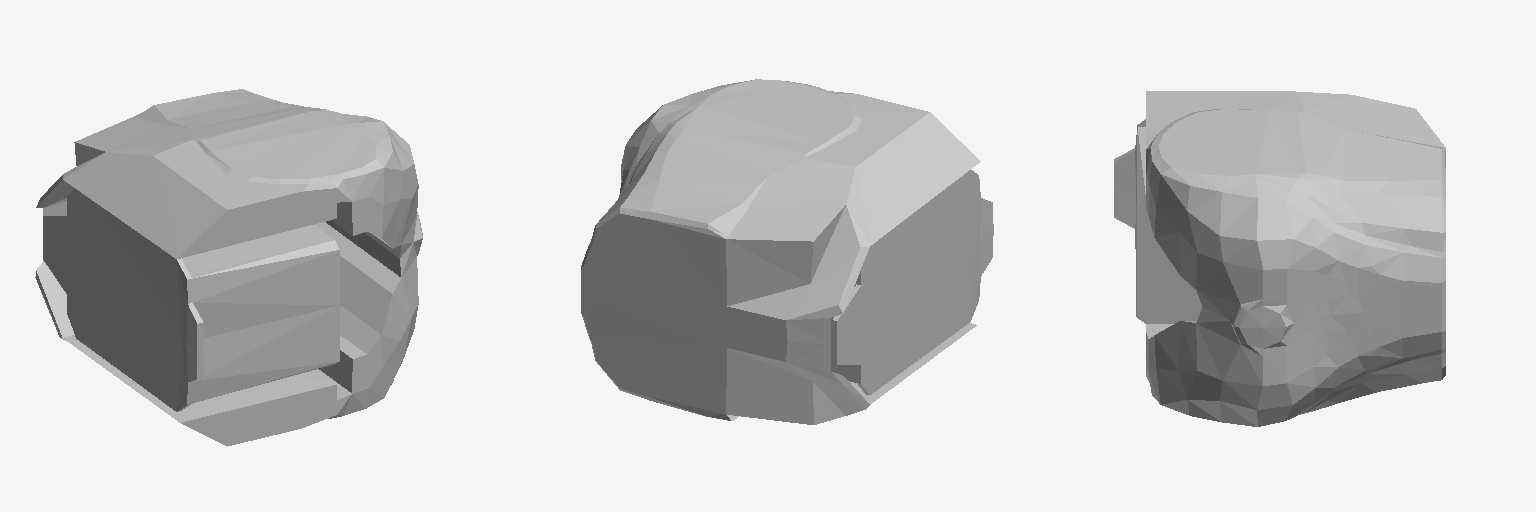
File: torso3.obj
3 renders of one model, left to right at view 1: azimuth 30°, elevation 25°; view 2: azimuth 150°, elevation 25°; view 3: azimuth 270°, elevation 25°, orthographic.
Size of the model in its own units: 0.4375 by 0.3435 by 0.426.